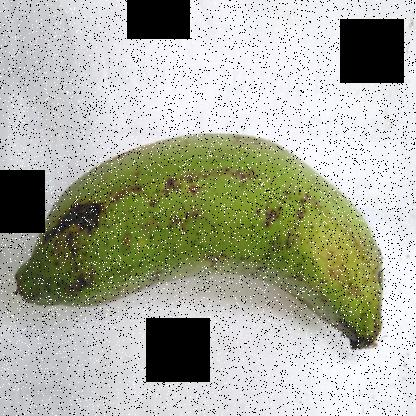rotten: (30, 177, 106, 264)
unripe: (7, 85, 396, 373)
